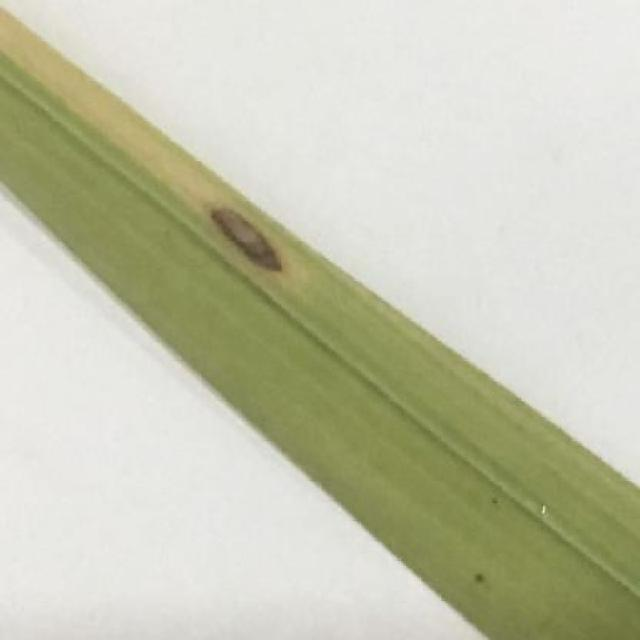Bacterial_Leaf_Blight: (201, 186, 297, 291)
